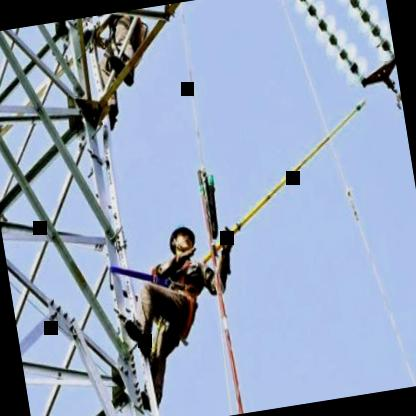helmet: (161, 214, 202, 266)
